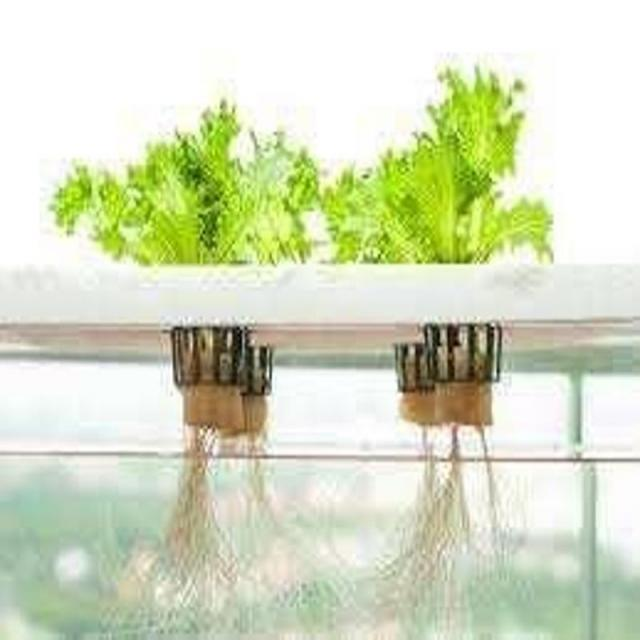Lettuce: (310, 56, 553, 286), (40, 91, 318, 282)
